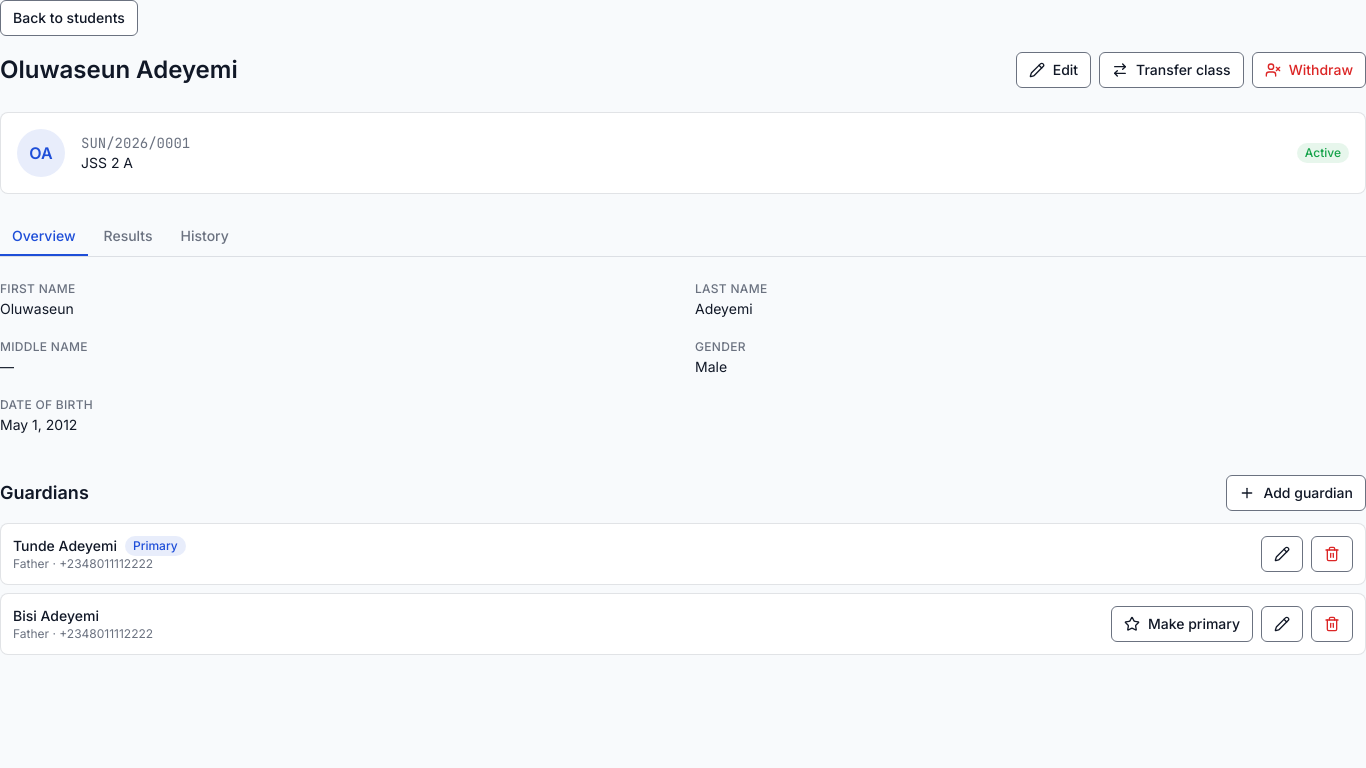
Test: StudentDetailPage — Guardians section › unlinking the primary guardian when another exists shows the reassign-first message inline
The width and height of the screenshot is (1366, 768).
Check: the text "Tunde Adeyemi" is shown, box x1=13 y1=536 x2=117 y2=556
Step 1. Click the button named "Remove Tunde Adeyemi" → (1332, 554), box x1=1311 y1=536 x2=1353 y2=572
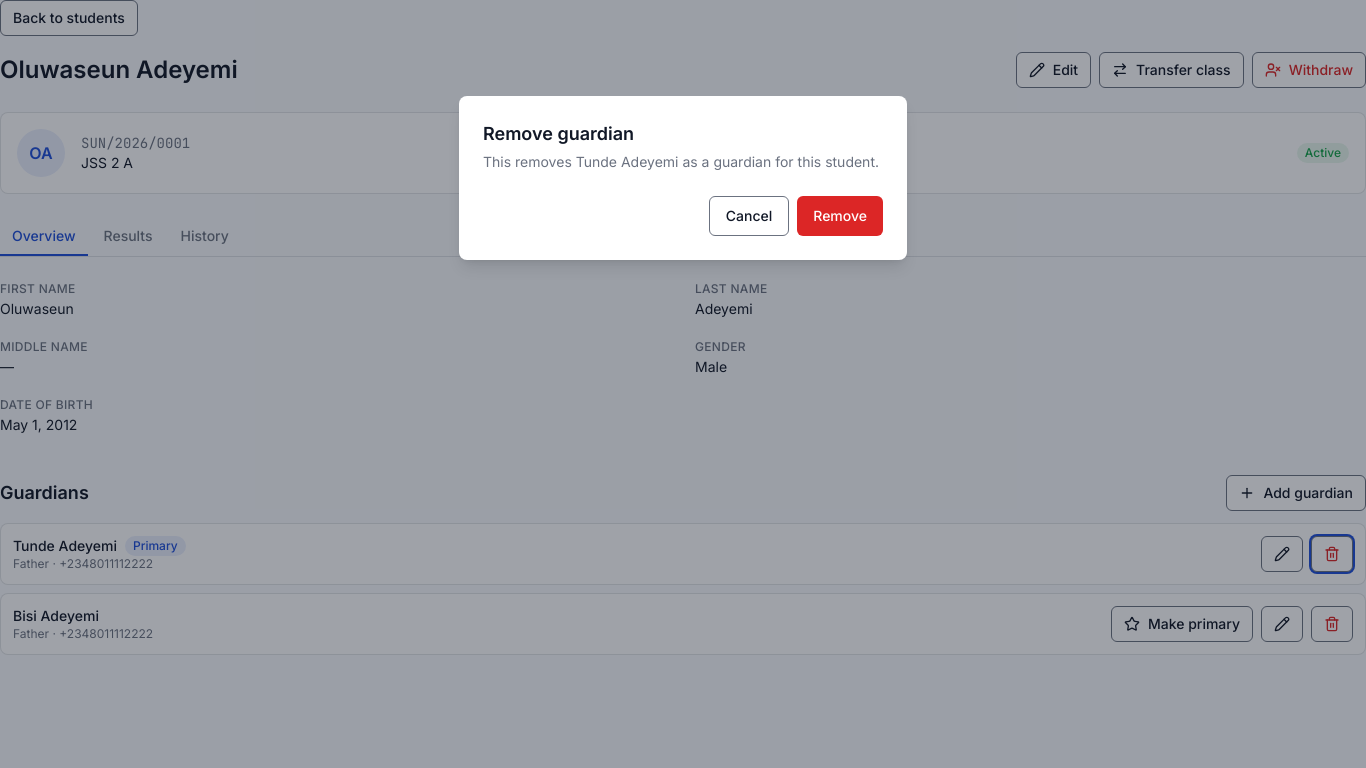
Step 2. Click the button "Remove" → (840, 216), box x1=797 y1=196 x2=883 y2=236
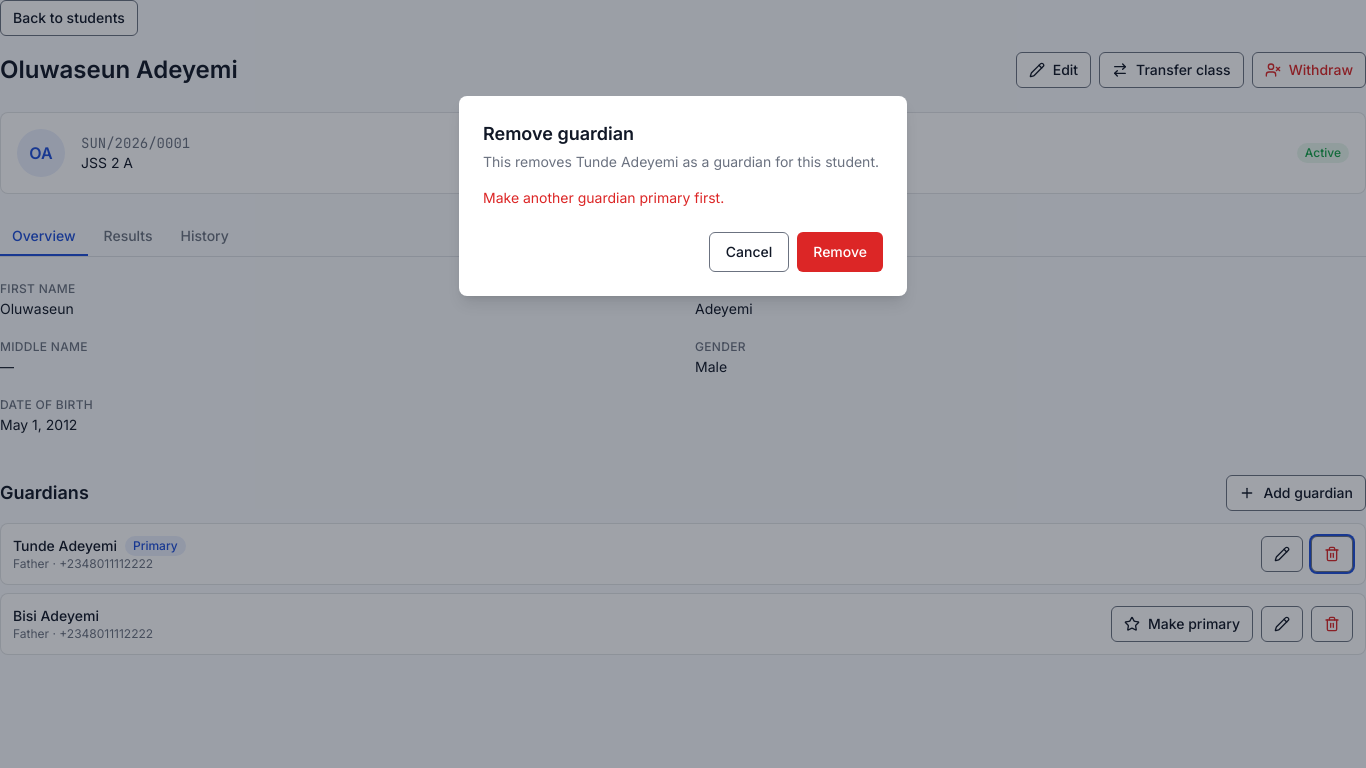
Check: the text "Make another guardian primary first." is shown, box x1=483 y1=189 x2=724 y2=206
